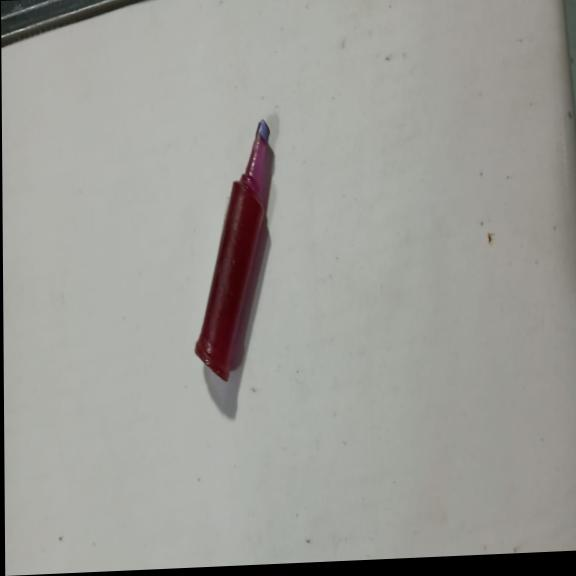Plastik: (192, 117, 271, 384)
